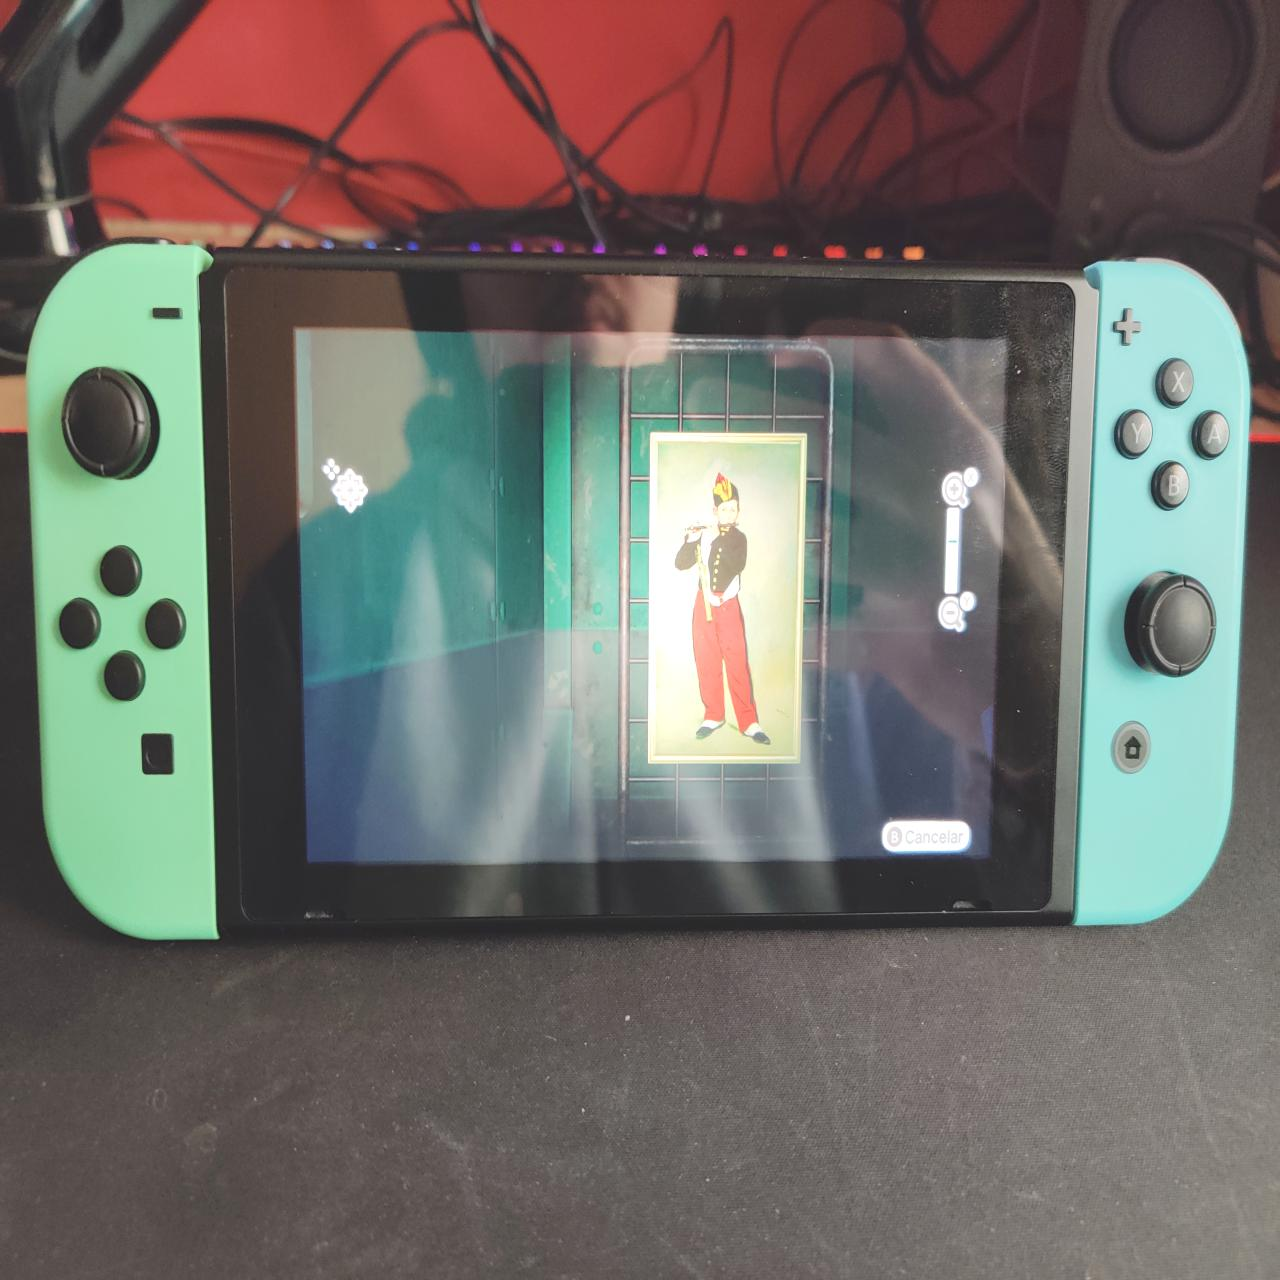FifePlayer: (658, 445, 798, 760)
